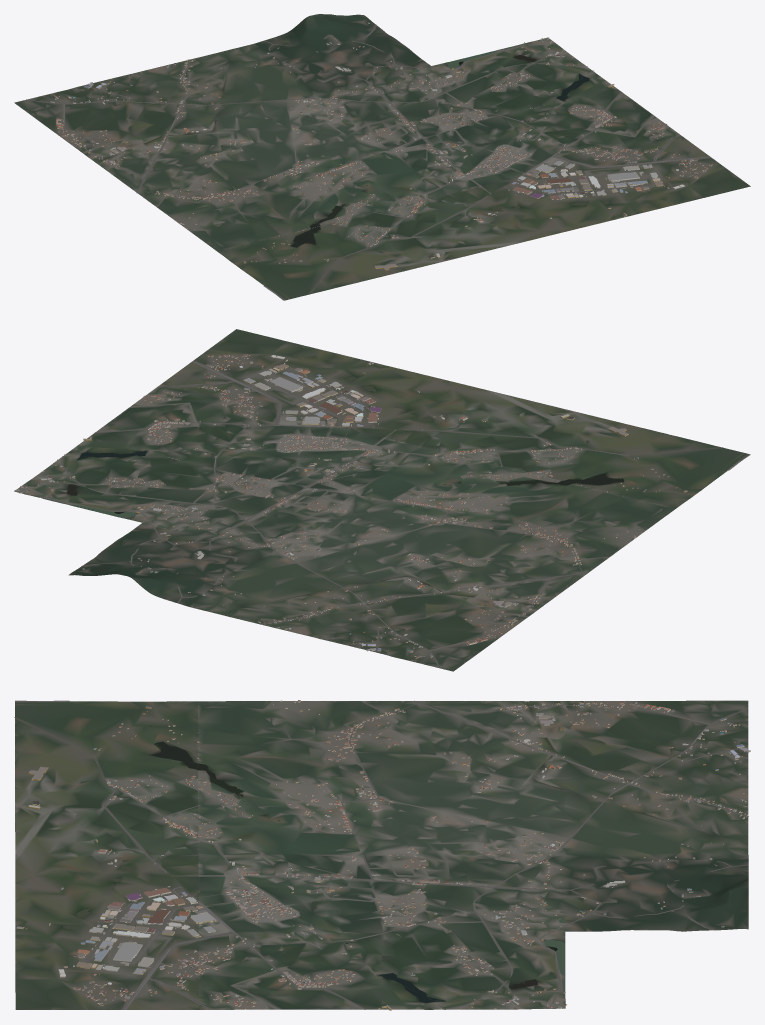
The picture shows the model from 3 angles, top to bottom: view 1: azimuth 30°, elevation 25°; view 2: azimuth 150°, elevation 25°; view 3: azimuth 270°, elevation 25°; orthographic projection. The views are drawn at different scales.
Parts seen in each view (by area): view 1: ground, buildings, roads, water; view 2: ground, buildings, roads, water; view 3: ground, buildings, roads, water.
Boxes of the visible parts, x1,y1,x2,y2 form: ground: [14, 14, 750, 300]; buildings: [50, 22, 713, 270]; roads: [26, 24, 711, 300]; water: [214, 39, 609, 275]; ground: [14, 329, 749, 671]; buildings: [14, 354, 687, 659]; roads: [22, 360, 750, 668]; water: [23, 377, 693, 580]; ground: [15, 700, 748, 1009]; buildings: [16, 700, 750, 1010]; roads: [14, 700, 748, 1009]; water: [63, 718, 566, 1009].
Bounding box in the file's own units: 5620 × 177 × 5636.
